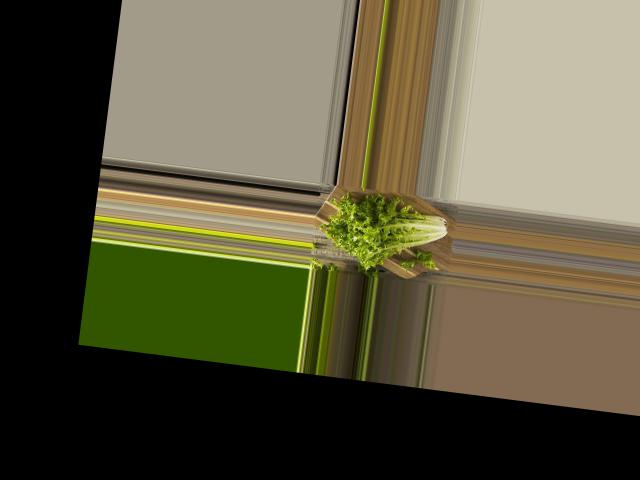lettuce: (321, 188, 457, 277)
